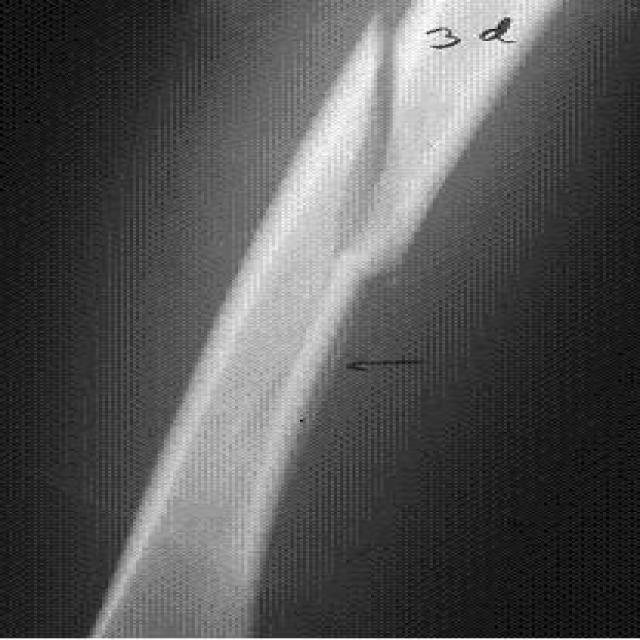Broken: (85, 24, 373, 634), (348, 0, 566, 288)
